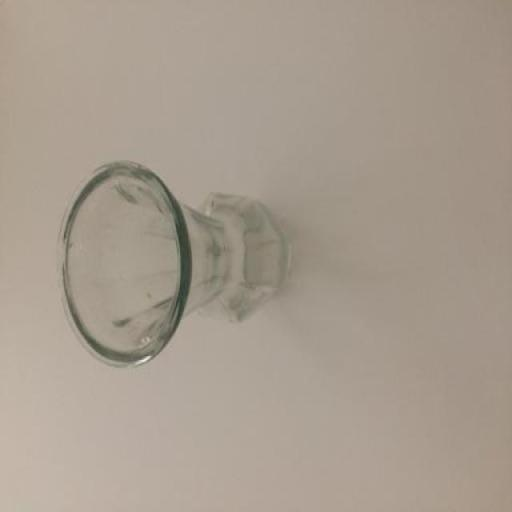glass: (54, 149, 296, 384)
